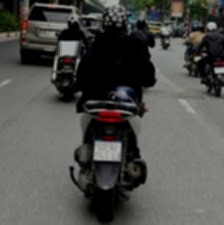Bien-so: (94, 142, 122, 164), (46, 37, 56, 46), (211, 70, 220, 78), (191, 60, 198, 66)
